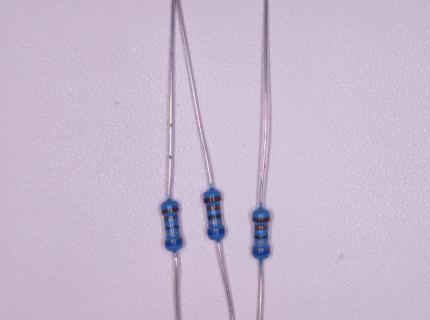Black band: (207, 214, 221, 220), (165, 225, 179, 230), (254, 235, 267, 239)
Blue band: (207, 228, 225, 236), (252, 249, 270, 256), (165, 240, 182, 247)
Brown band: (203, 195, 221, 203), (161, 207, 179, 214), (252, 217, 270, 223)
Grey band: (254, 240, 268, 245), (208, 220, 222, 225), (166, 231, 180, 236)
Orange band: (164, 215, 178, 221), (207, 205, 220, 211), (254, 226, 268, 230)
